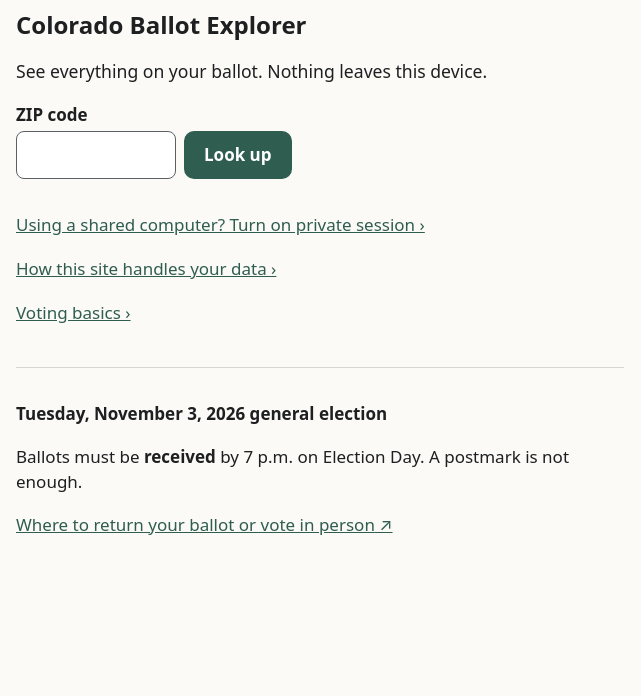
Scenario: ballot and home › sends a non-Colorado ZIP to that state's site with no ballot (AC-03)
Type "84105" into the search field labelled "ZIP code" at {"x": 96, "y": 155}, box [16,131,176,179]
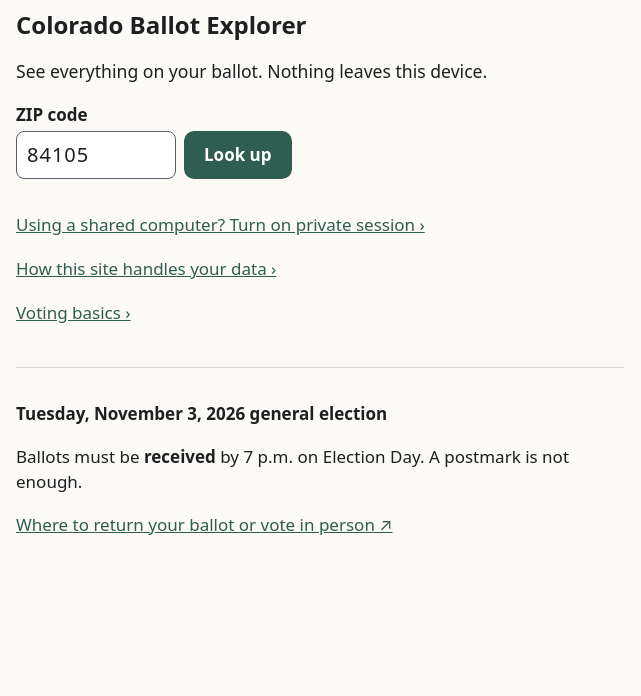
Submit the form labelled "ZIP code", box [16,103,292,179]
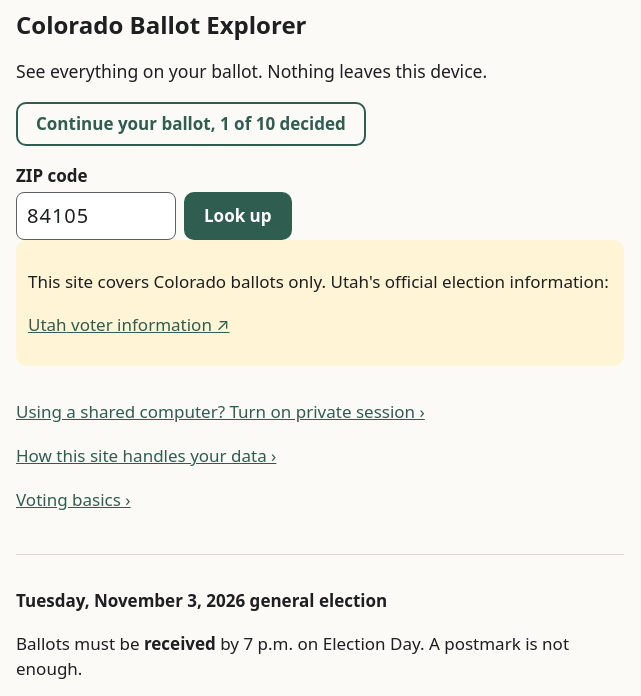
Expected: the text "covers Colorado ballots only" is shown, [28,270,330,293]
